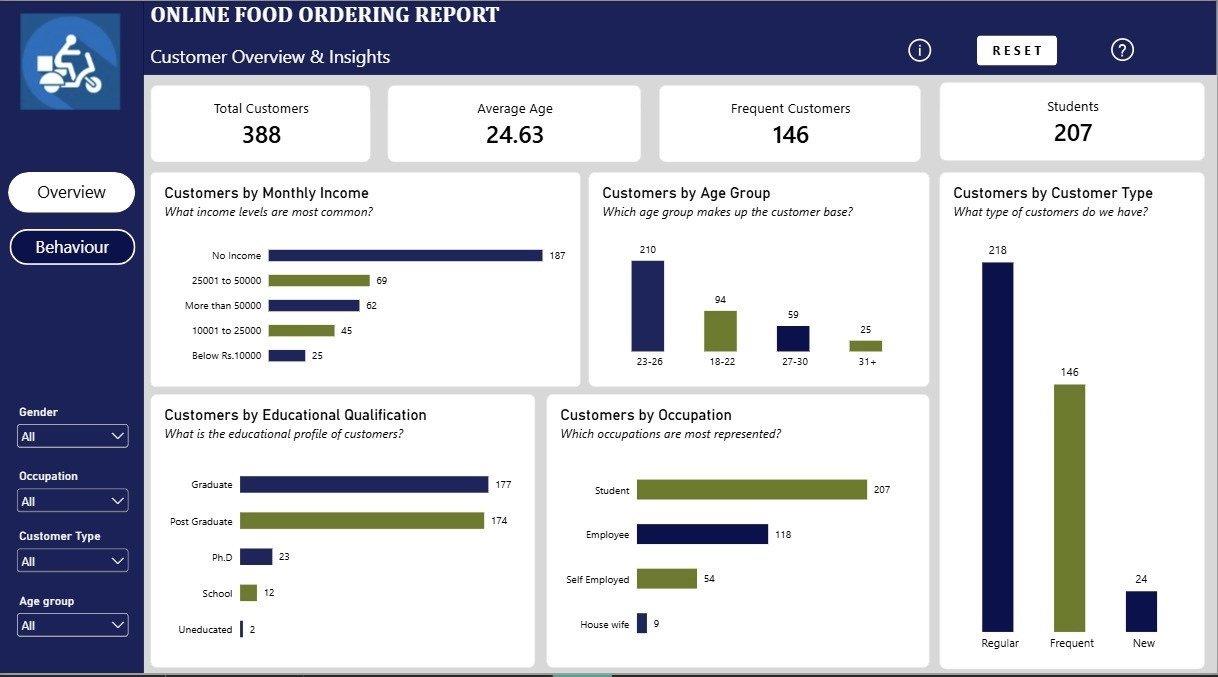

Layout of this report page (visuals, bound fields, positions):
{"tool":"powerbi","page":{"name":"Overview","canvas":[1450,800],"ordinal":0},"visuals":[{"type":"cardVisual","fields":{"Data":["Table1.Total Customers"]},"box":[180,100,262,92],"z":0},{"type":"cardVisual","fields":{"Data":["Table1.Average Age"]},"box":[462.7,100,302,92],"z":1000},{"type":"cardVisual","fields":{"Data":["Table1.Frequent Customers"]},"box":[785.3,100,312,92],"z":2000},{"type":"shape","box":[0,0,172.5,800],"z":3000},{"type":"columnChart","title":"Customers by Age Group","fields":{"Category":["Table1.Age group"],"Y":["Table1.Total Customers"]},"box":[702,204,406,256],"z":4000},{"type":"barChart","title":"Customers by Occupation ","fields":{"Category":["Table1.Occupation"],"Y":["Table1.Total Customers"]},"box":[652,468,456,326],"z":5000},{"type":"clusteredColumnChart","title":"Customers by Customer Type","fields":{"Category":["Table1.Customer Type"],"Y":["Table1.Total Customers"]},"box":[1118.9,202.7,316.2,591.9],"z":6000},{"type":"clusteredBarChart","title":"Customers by Monthly Income","fields":{"Category":["Table1.Monthly Income"],"Y":["Table1.Total Customers"]},"box":[180,204,512,256],"z":7000},{"type":"shape","box":[172,0,1278,88],"z":8000},{"type":"barChart","title":"Customers by Educational Qualification","fields":{"Category":["Table1.Educational Qualifications"],"Y":["Table1.Total Customers"]},"box":[180,468,458,326],"z":9000},{"type":"textbox","box":[180,0,430,87.5],"z":10000},{"type":"actionButton","box":[21.6,5.4,127,124.3],"z":11000},{"type":"actionButton","box":[10.8,202.7,151.4,48.6],"z":12000},{"type":"cardVisual","fields":{"Data":["Table1.Students"]},"box":[1118.9,97.3,316.2,94.6],"z":13000},{"type":"actionButton","box":[11.9,271.4,150,42.9],"z":14000},{"type":"actionButton","box":[1011.9,14.3,166.7,88.1],"z":16000},{"type":"actionButton","box":[1164.3,40.5,95.2,35.7],"z":17000},{"type":"actionButton","box":[1283.3,38.1,107.1,40.5],"z":18000},{"type":"slicer","fields":{"Values":["Table1.Gender"]},"box":[16.7,481,142.9,69],"z":19000},{"type":"slicer","fields":{"Values":["Table1.Occupation"]},"box":[16.7,557.1,142.9,54.8],"z":20000},{"type":"slicer","fields":{"Values":["Table1.Customer Type"]},"box":[16.7,628.6,142.9,54.8],"z":21000},{"type":"slicer","fields":{"Values":["Table1.Age group"]},"box":[16.9,704.6,143.1,56.9],"z":22000}]}

Visuals, with their boxes on the page's 1450x800 design canvas (x1, y1, x2, y2). These are canvas units, not pixel positions in the 1218x677 screenshot, which may show the page scaled, cropped or inside an application window:
cardVisual - Table1.Total Customers: <bbox>180, 100, 442, 192</bbox>
cardVisual - Table1.Average Age: <bbox>463, 100, 765, 192</bbox>
cardVisual - Table1.Frequent Customers: <bbox>785, 100, 1097, 192</bbox>
shape: <bbox>0, 0, 172, 800</bbox>
"Customers by Age Group" columnChart: <bbox>702, 204, 1108, 460</bbox>
"Customers by Occupation " barChart: <bbox>652, 468, 1108, 794</bbox>
"Customers by Customer Type" clusteredColumnChart: <bbox>1119, 203, 1435, 795</bbox>
"Customers by Monthly Income" clusteredBarChart: <bbox>180, 204, 692, 460</bbox>
shape: <bbox>172, 0, 1450, 88</bbox>
"Customers by Educational Qualification" barChart: <bbox>180, 468, 638, 794</bbox>
textbox: <bbox>180, 0, 610, 88</bbox>
actionButton: <bbox>22, 5, 149, 130</bbox>
actionButton: <bbox>11, 203, 162, 251</bbox>
cardVisual - Table1.Students: <bbox>1119, 97, 1435, 192</bbox>
actionButton: <bbox>12, 271, 162, 314</bbox>
actionButton: <bbox>1012, 14, 1179, 102</bbox>
actionButton: <bbox>1164, 40, 1260, 76</bbox>
actionButton: <bbox>1283, 38, 1390, 79</bbox>
slicer - Table1.Gender: <bbox>17, 481, 160, 550</bbox>
slicer - Table1.Occupation: <bbox>17, 557, 160, 612</bbox>
slicer - Table1.Customer Type: <bbox>17, 629, 160, 683</bbox>
slicer - Table1.Age group: <bbox>17, 705, 160, 762</bbox>
